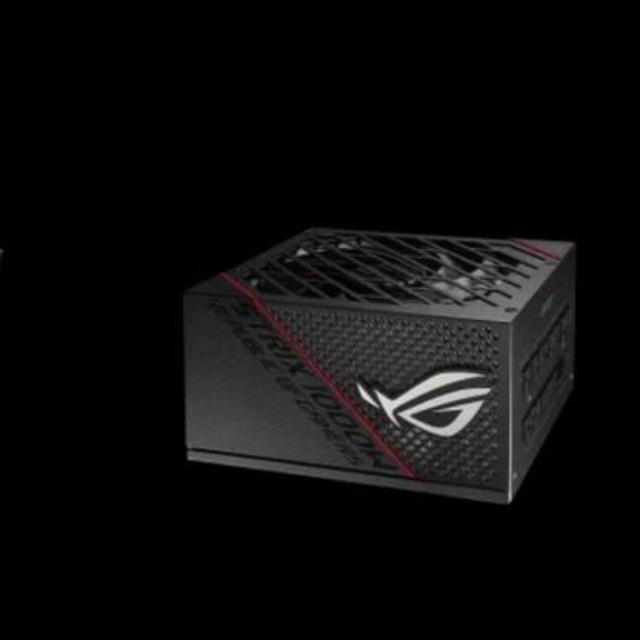PSU: (179, 210, 599, 508)
